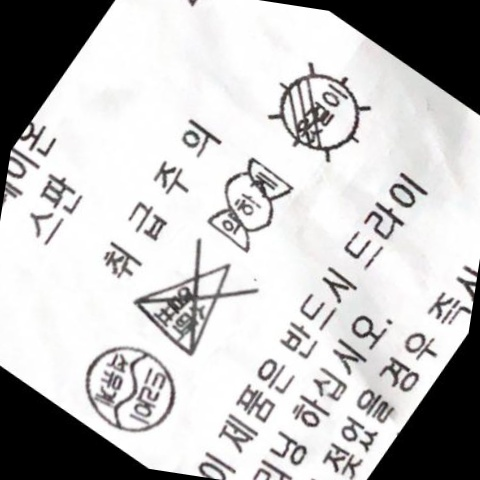dry_clean_petrol_only: (77, 338, 190, 439)
line_dry_in_shade: (263, 61, 375, 168)
non_chlorine_bleach: (134, 239, 249, 361)
wring: (205, 157, 301, 256)
